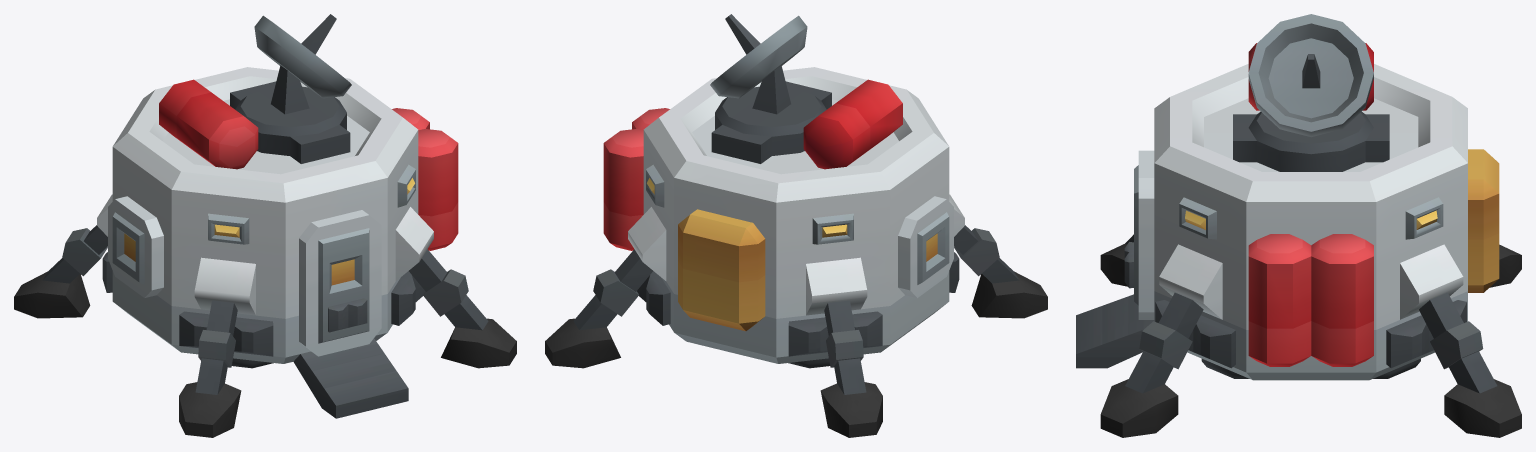
The model's file is lander_a.glb.
The picture shows the model from 3 angles, left to right: view 1: azimuth 30°, elevation 25°; view 2: azimuth 150°, elevation 25°; view 3: azimuth 270°, elevation 25°; orthographic projection. The views are drawn at different scales.
Visible parts, largest first — view 1: lander_A; view 2: lander_A; view 3: lander_A.
Boxes of the visible parts, box(x1,y1,x2,y2) form: lander_A: box(14, 14, 516, 437); lander_A: box(545, 14, 1047, 437); lander_A: box(1076, 14, 1521, 437).
Size of the model in its own units: 1.37 by 1.19 by 1.42.
1 material, 1 textured.
